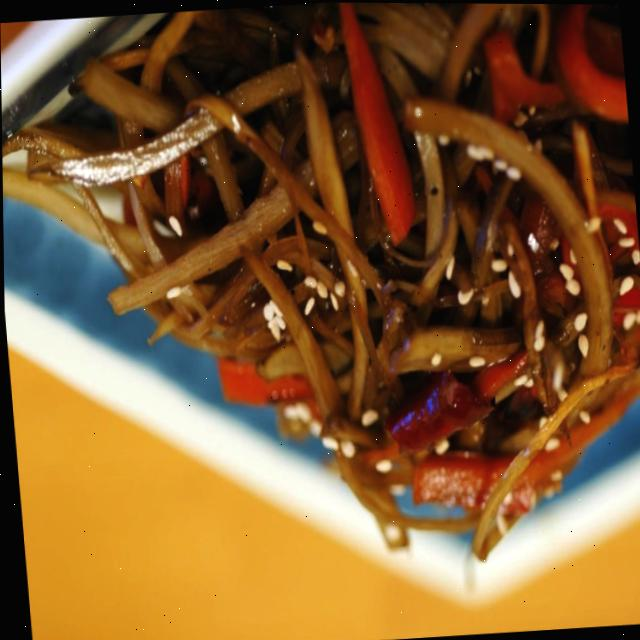蔬菜料理: (0, 0, 640, 611)
